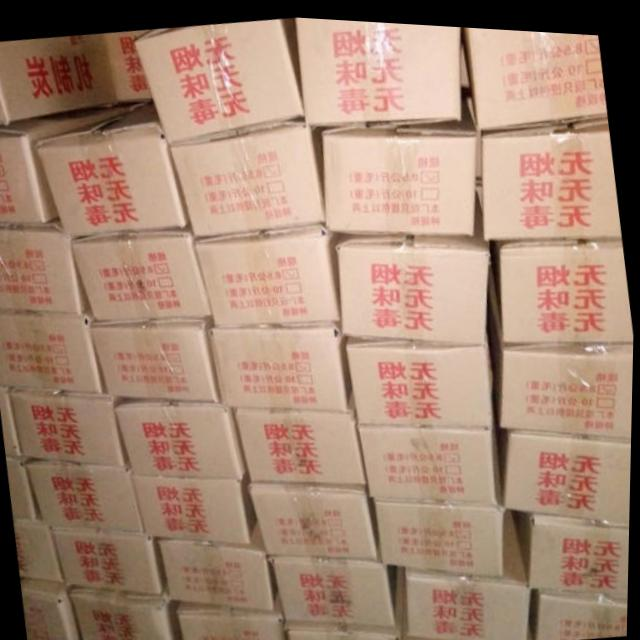box: (488, 250, 635, 432), (321, 91, 478, 232), (136, 15, 305, 143), (338, 203, 490, 341), (37, 100, 191, 236), (378, 426, 508, 572), (170, 113, 328, 233), (294, 14, 462, 124), (480, 110, 623, 235), (406, 505, 532, 637), (347, 320, 496, 424), (461, 22, 608, 125), (195, 219, 340, 321), (493, 234, 635, 336), (0, 102, 118, 223), (73, 220, 211, 320), (208, 316, 352, 409), (237, 383, 368, 480), (501, 422, 633, 511), (92, 311, 221, 398), (114, 394, 250, 475), (0, 32, 118, 125), (160, 517, 281, 606), (398, 562, 535, 640), (360, 422, 498, 498), (271, 537, 399, 617), (252, 479, 380, 553), (519, 506, 632, 587), (0, 305, 105, 392), (131, 470, 259, 539), (0, 216, 91, 313), (13, 389, 132, 463), (27, 457, 146, 530), (51, 526, 170, 593), (70, 582, 186, 640), (177, 588, 289, 640), (532, 580, 630, 635), (23, 578, 86, 640), (104, 27, 155, 100), (15, 518, 64, 582), (287, 615, 404, 640), (8, 457, 37, 518), (1, 385, 22, 457)
